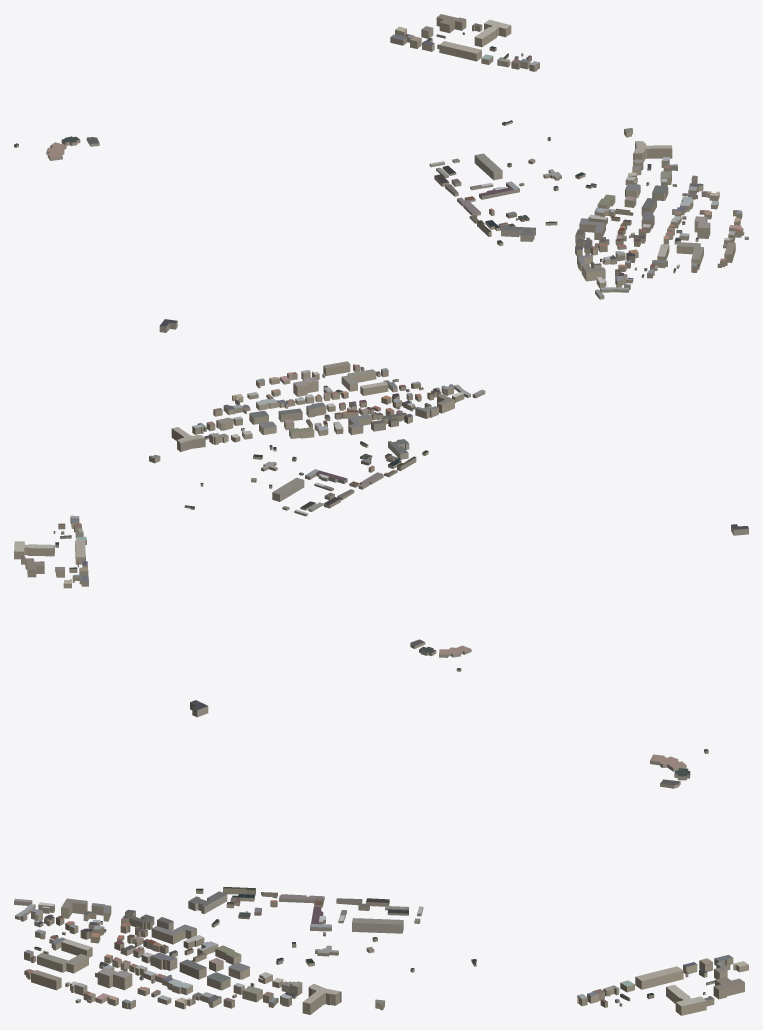
3 views of the same model, one above another, from view 1: azimuth 30°, elevation 25°; view 2: azimuth 150°, elevation 25°; view 3: azimuth 270°, elevation 25° (orthographic). The views are drawn at different scales.
Visible parts, largest first — view 1: tuile; view 2: tuile; view 3: tuile.
Part boxes in pixels (x1,y1,x2,y2): tuile: (14, 14, 748, 332); tuile: (14, 361, 748, 671); tuile: (14, 700, 748, 1015).
Bounding box in the file's own units: 1025 × 21.77 × 1019.
